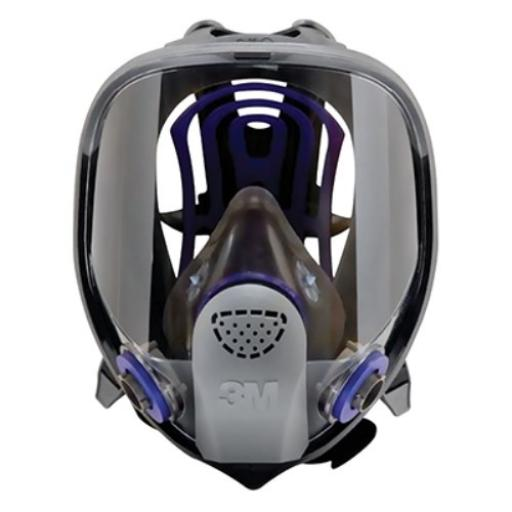mask: (70, 17, 445, 496)
